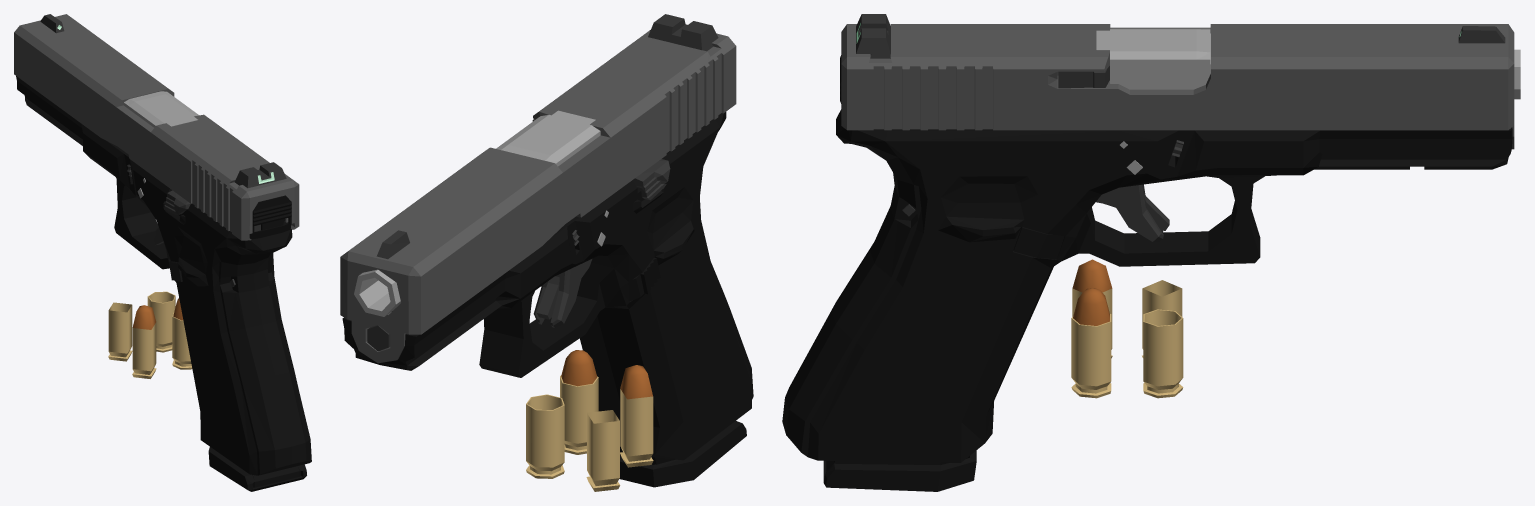
The picture shows the model from 3 angles, left to right: view 1: azimuth 30°, elevation 25°; view 2: azimuth 150°, elevation 25°; view 3: azimuth 270°, elevation 25°; orthographic projection. The views are drawn at different scales.
Parts seen in each view (by area): view 1: frame, slide, barrel, cartridge_low_detail, magazine_13rnd, casing_low_detail, casing, catridge, rear_sight, slide_lock_release; view 2: frame, slide, barrel, cartridge_low_detail, casing, catridge, magazine_13rnd, casing_low_detail, rear_sight, trigger, slide_lock_release, mag_release (+3 smaller); view 3: frame, slide, barrel, magazine_13rnd, catridge, casing, trigger, rear_sight, cartridge_low_detail, casing_low_detail, mag_release, extractor.
Boxes of the visible parts, x1,y1,x2,y2 form: frame: [16, 76, 311, 475]; slide: [14, 14, 299, 240]; barrel: [123, 91, 198, 127]; cartridge_low_detail: [132, 305, 156, 378]; magazine_13rnd: [208, 447, 306, 491]; casing_low_detail: [108, 302, 132, 361]; casing: [147, 291, 175, 352]; catridge: [172, 298, 192, 369]; rear_sight: [235, 162, 286, 188]; slide_lock_release: [164, 190, 190, 214]; frame: [342, 112, 753, 460]; slide: [340, 30, 736, 363]; barrel: [354, 110, 600, 316]; cartridge_low_detail: [620, 365, 653, 467]; casing: [526, 394, 564, 478]; catridge: [560, 350, 598, 454]; magazine_13rnd: [619, 421, 746, 487]; casing_low_detail: [586, 410, 620, 491]; rear_sight: [648, 14, 718, 51]; trigger: [533, 259, 592, 327]; slide_lock_release: [632, 159, 670, 200]; mag_release: [628, 257, 660, 301]; frame: [782, 109, 1512, 462]; slide: [840, 24, 1514, 149]; barrel: [1096, 28, 1520, 99]; magazine_13rnd: [823, 450, 976, 491]; catridge: [1071, 288, 1111, 398]; casing: [1143, 309, 1183, 398]; trigger: [1097, 184, 1163, 242]; rear_sight: [856, 14, 890, 58]; cartridge_low_detail: [1072, 259, 1112, 358]; casing_low_detail: [1142, 280, 1182, 357]; mag_release: [1013, 227, 1064, 259]; extractor: [1058, 66, 1109, 88].
Size of the model in its own units: 4.38 by 14.04 by 21.12.
